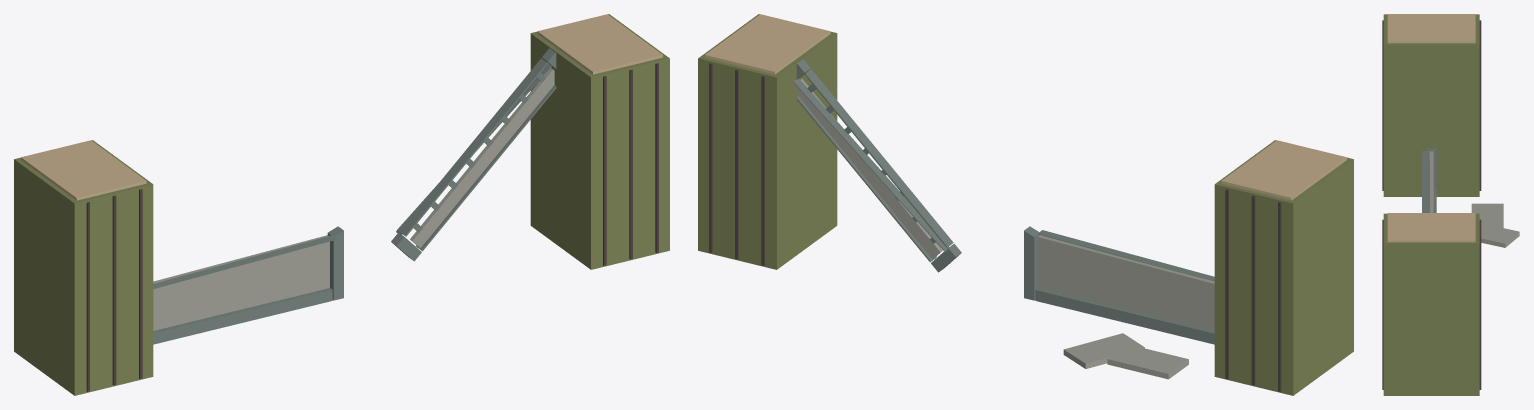
Rendered from SM_PuertaVia_v0_TuboChapa_e2_MuyDanado_LOD0.fbx.
3 views of the same model, side by side, from view 1: azimuth 30°, elevation 25°; view 2: azimuth 150°, elevation 25°; view 3: azimuth 270°, elevation 25° (orthographic). The views are drawn at different scales.
Parts seen in each view (by area): view 1: SM_bloques.puerta_via_v2_LOD0, Hoja_O, Hoja_E; view 2: SM_bloques.puerta_via_v2_LOD0, Hoja_O, Hoja_E; view 3: SM_bloques.puerta_via_v2_LOD0, Hoja_O.
Boxes of the visible parts, <box> form: SM_bloques.puerta_via_v2_LOD0: <box>14,14,669,395</box>; Hoja_O: <box>153,226,343,344</box>; Hoja_E: <box>391,48,556,261</box>; SM_bloques.puerta_via_v2_LOD0: <box>698,14,1353,395</box>; Hoja_O: <box>1024,226,1214,344</box>; Hoja_E: <box>793,59,961,272</box>; SM_bloques.puerta_via_v2_LOD0: <box>1382,14,1519,395</box>; Hoja_O: <box>1422,148,1436,212</box>.
Bounding box in the file's own units: 6.8 × 2.13 × 1.72.
